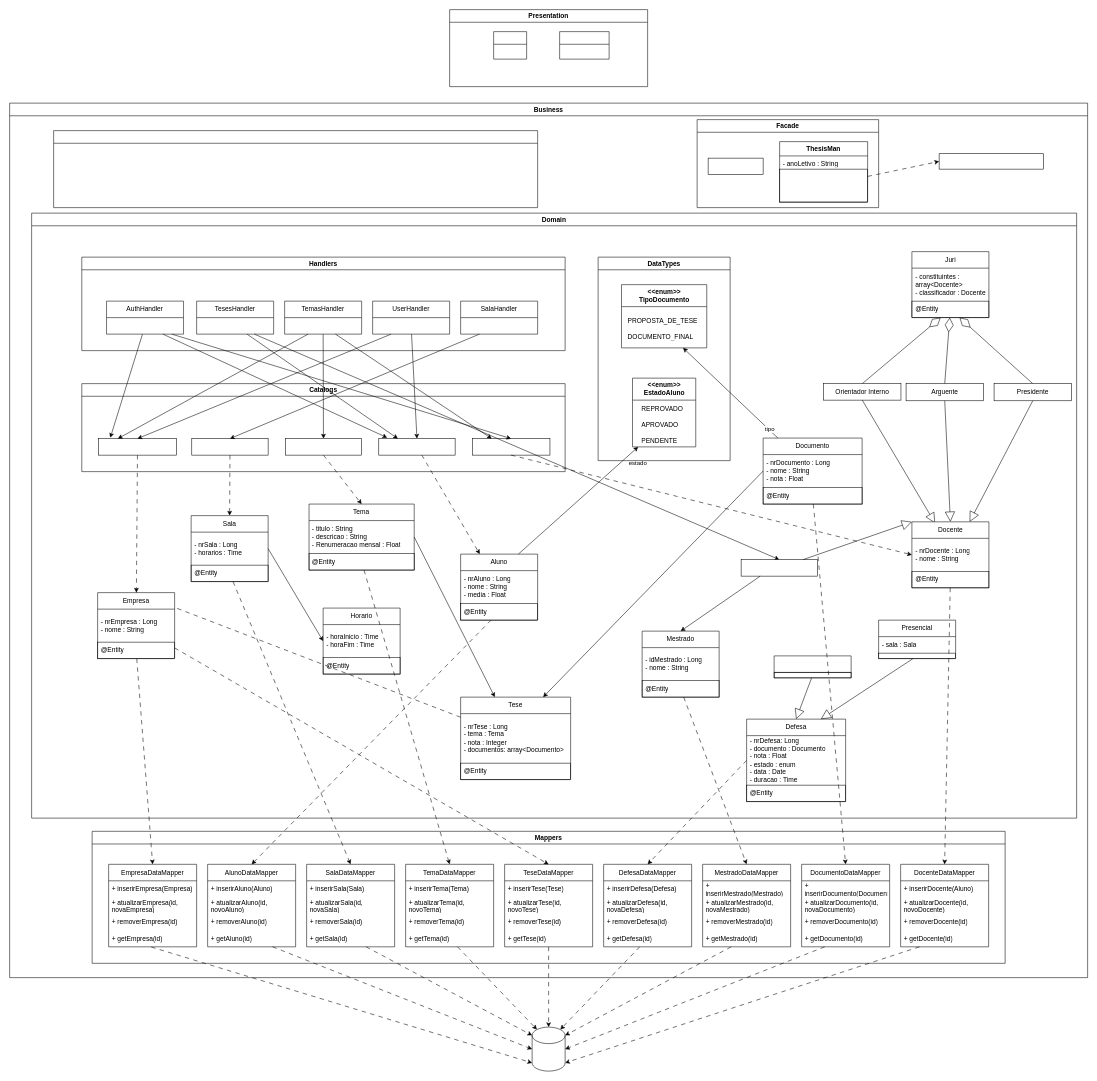
This 1097x1081 diagram has some shape labels left out. The centre of each missing label's shape, as x and y in pixels:
+ ThesisMan() + run() + close(): the point at 823,185
Administrador: the point at 779,567
Application Exception: the point at 735,166
Catalogo de Alunos: the point at 416,446
Catalogo de Docentes: the point at 511,446
Catalogo de Empresas: the point at 137,446
Catalogo de Salas: the point at 229,446
Catalogo de Temas: the point at 323,446
Controllers: the point at 584,45
data: the point at 548,1049
jakarta.persistence.Entity: the point at 991,161
Remota: the point at 812,666
Services: the point at 295,169
UI: the point at 510,45
